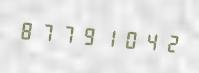eight: (17, 12, 36, 47)
four: (137, 23, 156, 57)
nine: (77, 18, 96, 52)
one: (97, 19, 116, 54)
seven: (37, 14, 56, 49), (57, 16, 76, 50)
two: (157, 25, 176, 59)
zero: (117, 21, 136, 56)
